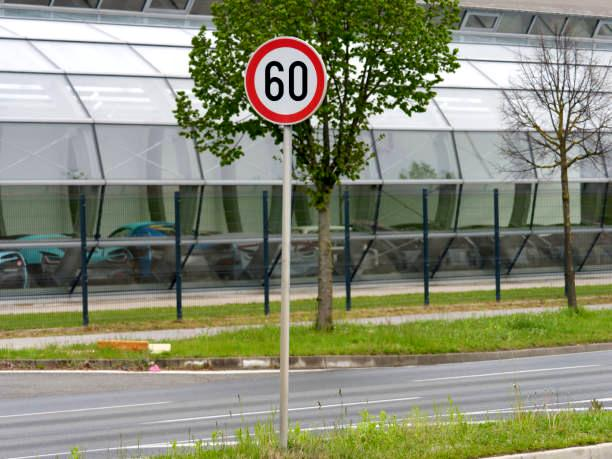Speed Limit -60-: (242, 34, 327, 125)
